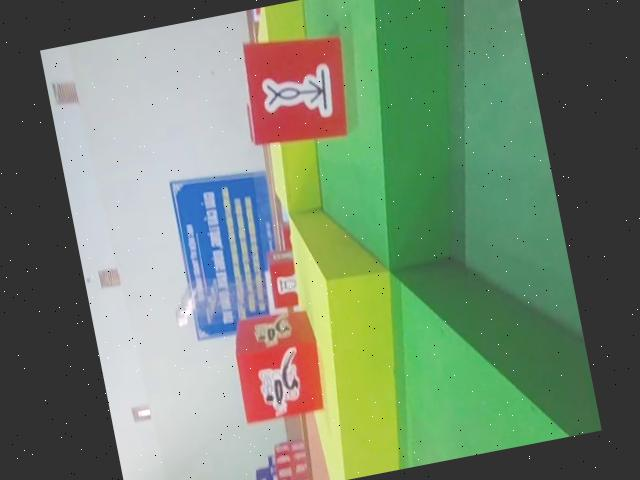R1: (226, 304, 328, 424)
R2 Real: (234, 26, 358, 152)
